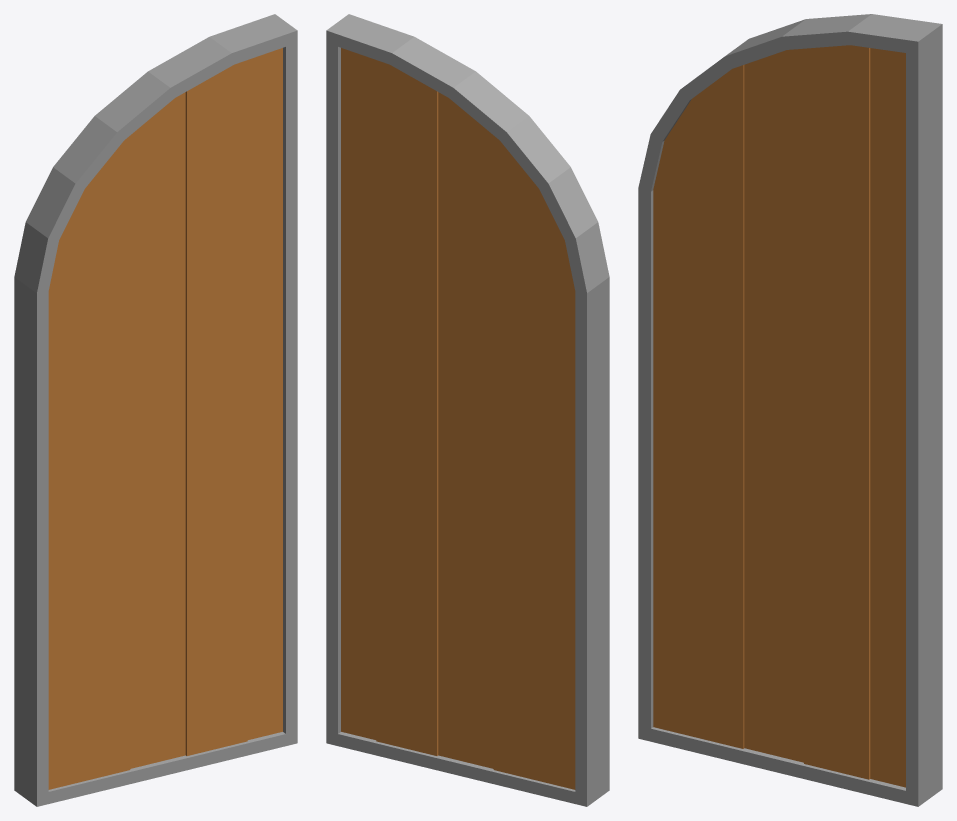
Rendered from Prop_Gothic_Door_02.FBX.
3 views of the same model, side by side, from view 1: azimuth 30°, elevation 25°; view 2: azimuth 150°, elevation 25°; view 3: azimuth 330°, elevation 25° (orthographic). The views are drawn at different scales.
Parts seen in each view (by area): view 1: Prop_Gothic_Door_02; view 2: Prop_Gothic_Door_02; view 3: Prop_Gothic_Door_02.
Boxes of the visible parts, x1,y1,x2,y2 form: Prop_Gothic_Door_02: [14, 14, 297, 806]; Prop_Gothic_Door_02: [326, 14, 609, 806]; Prop_Gothic_Door_02: [638, 14, 942, 806].
Bounding box in the file's own units: 836 × 2184 × 125.
